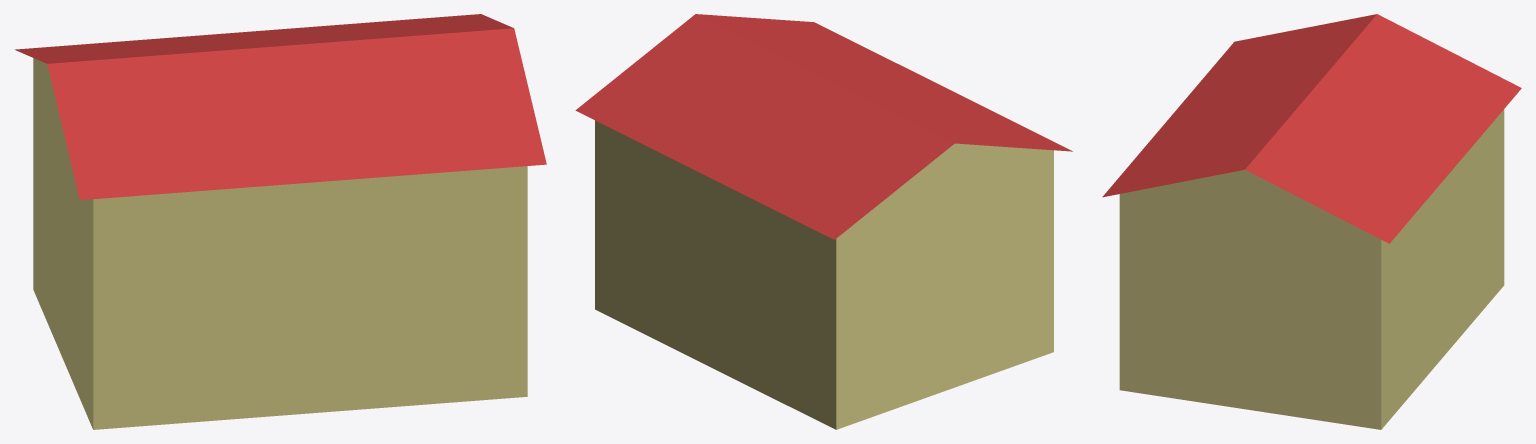
3 renders of one model, left to right at view 1: azimuth 30°, elevation 25°; view 2: azimuth 150°, elevation 25°; view 3: azimuth 270°, elevation 25°, orthographic. The views are drawn at different scales.
Bounding box in the file's own units: 17.24 × 15.34 × 9.9.
